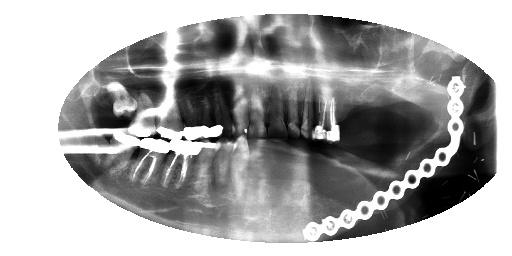Fillings: (109, 131, 141, 182), (195, 87, 226, 137), (179, 82, 205, 141), (157, 92, 185, 141)
Implant: (133, 138, 170, 185), (166, 140, 198, 190), (327, 87, 342, 141)
